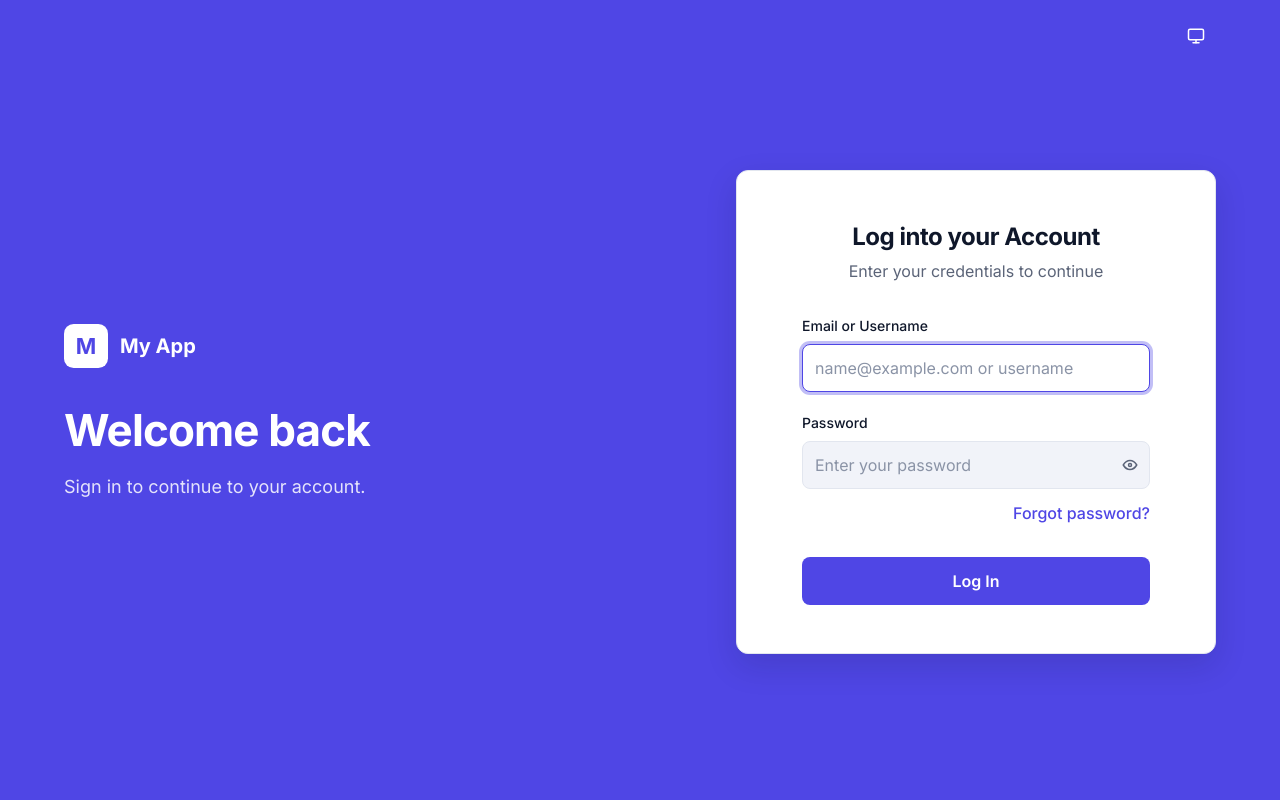
login › after logging in, the user returns to the page they wanted
The image size is (1280, 800).
Expected: the heading "Log into your Account" is shown, [852,222,1100,251]
Type "admin" into the field labelled "Email or Username" at coordinates (976, 368), box [802,344,1150,392]
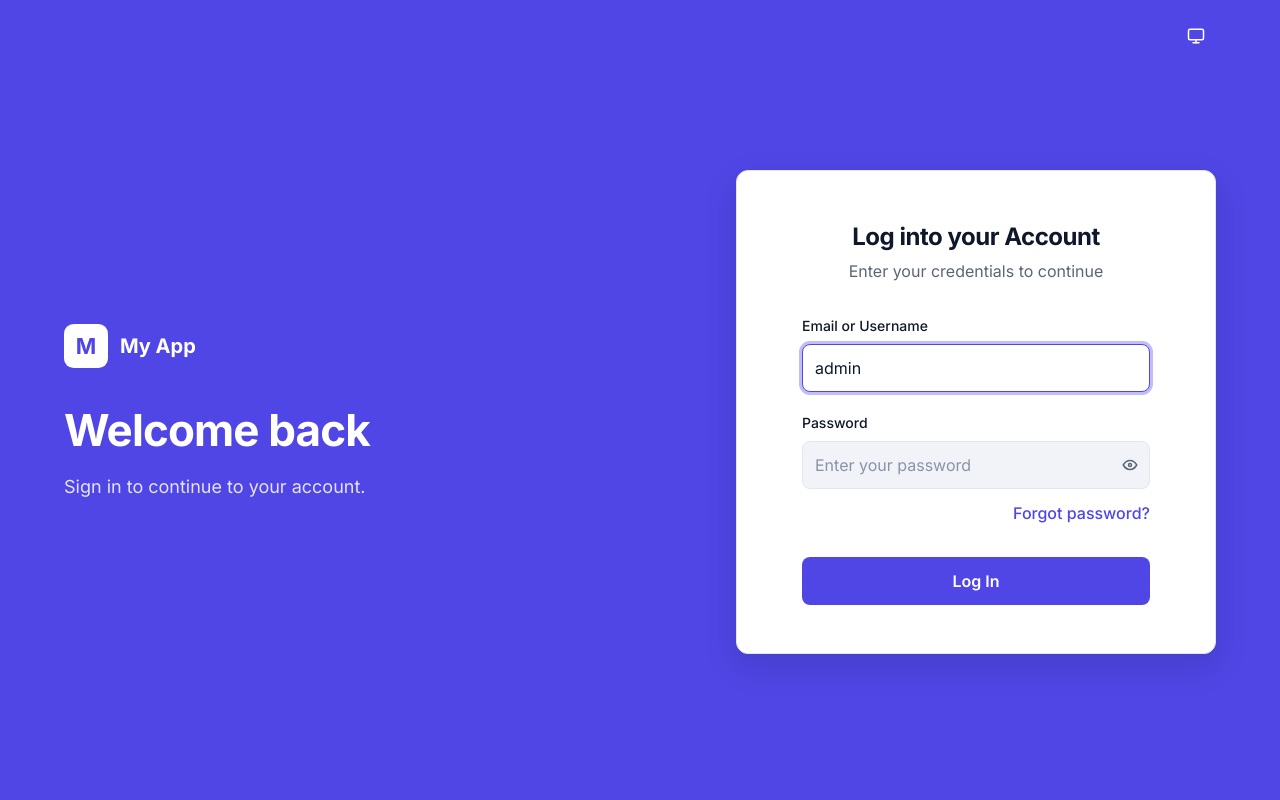
Type "Admin123!" into the password field labelled "Password" at coordinates (976, 465), box [802,441,1150,489]
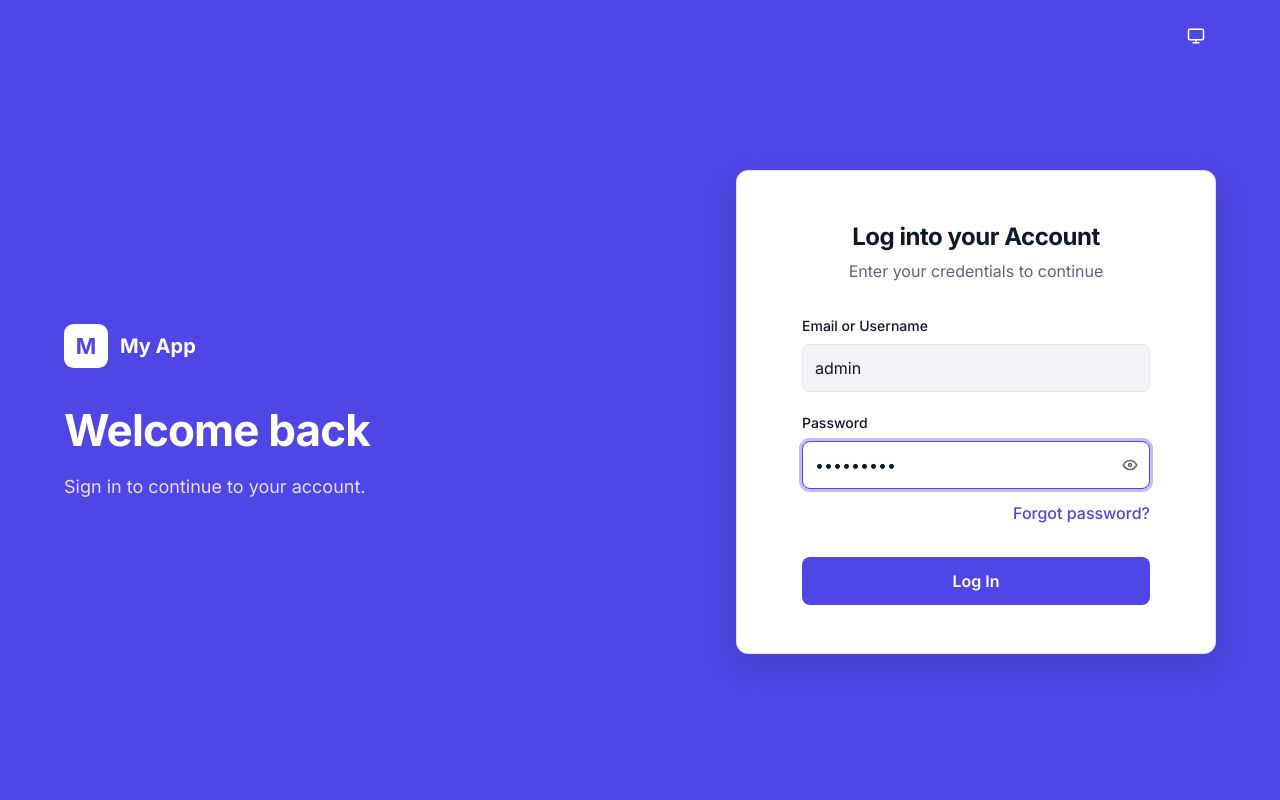
Click the button "Log In" at coordinates (976, 581), box [802,557,1150,605]
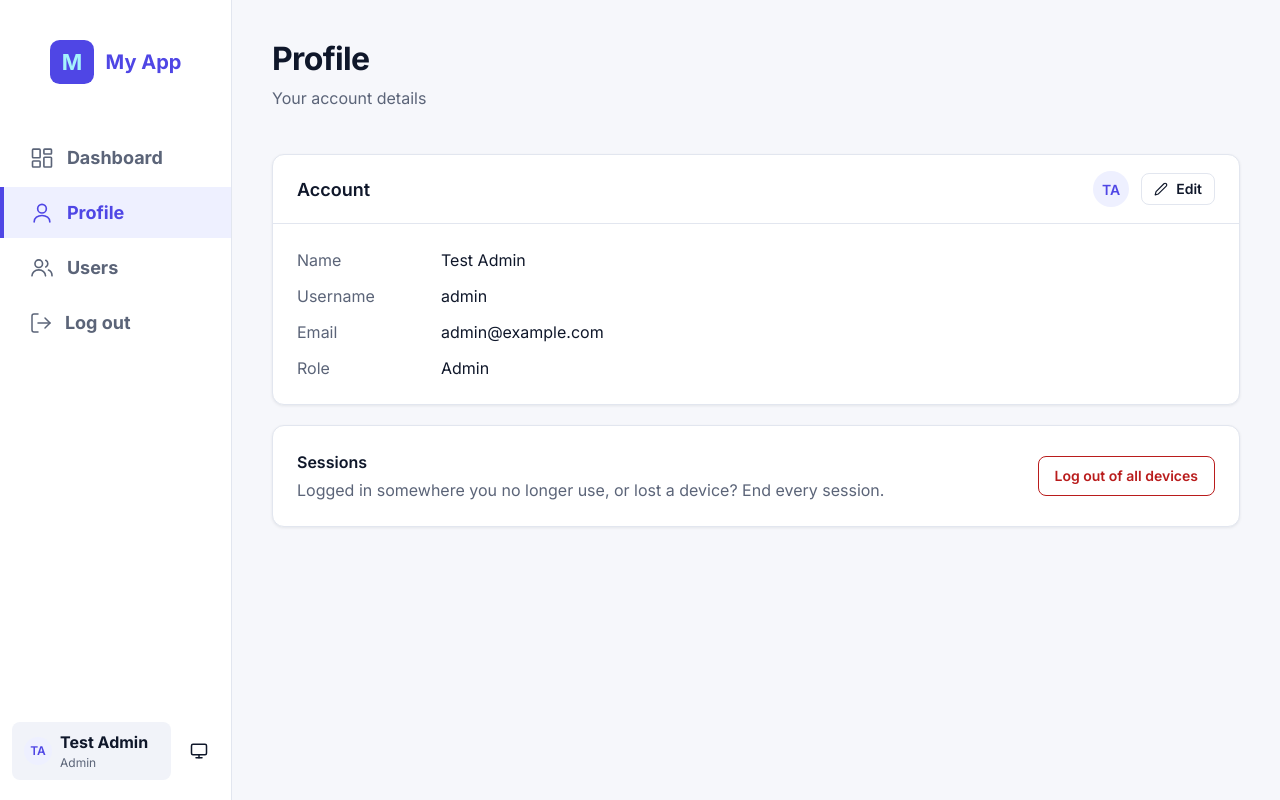
Expected: the heading "Profile" is shown, [272,39,370,78]
